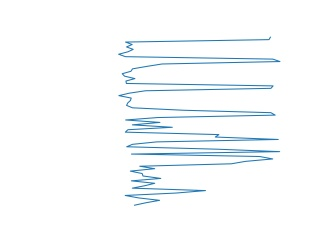crevasseRiverChannelBar: (122, 158, 267, 206)
majorRiverBedLagDeposit: (116, 120, 283, 162)
majorRiverChannelBar: (115, 35, 283, 116)
